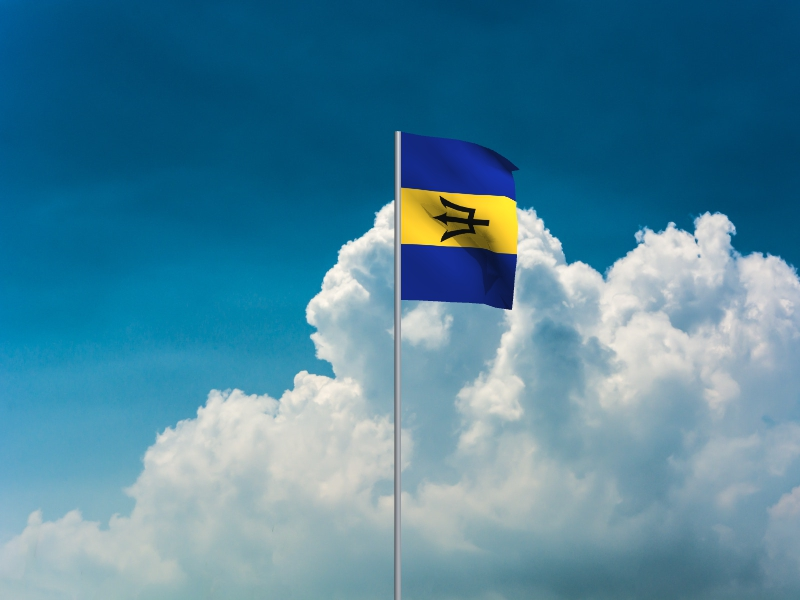bb: (402, 133, 521, 312)
